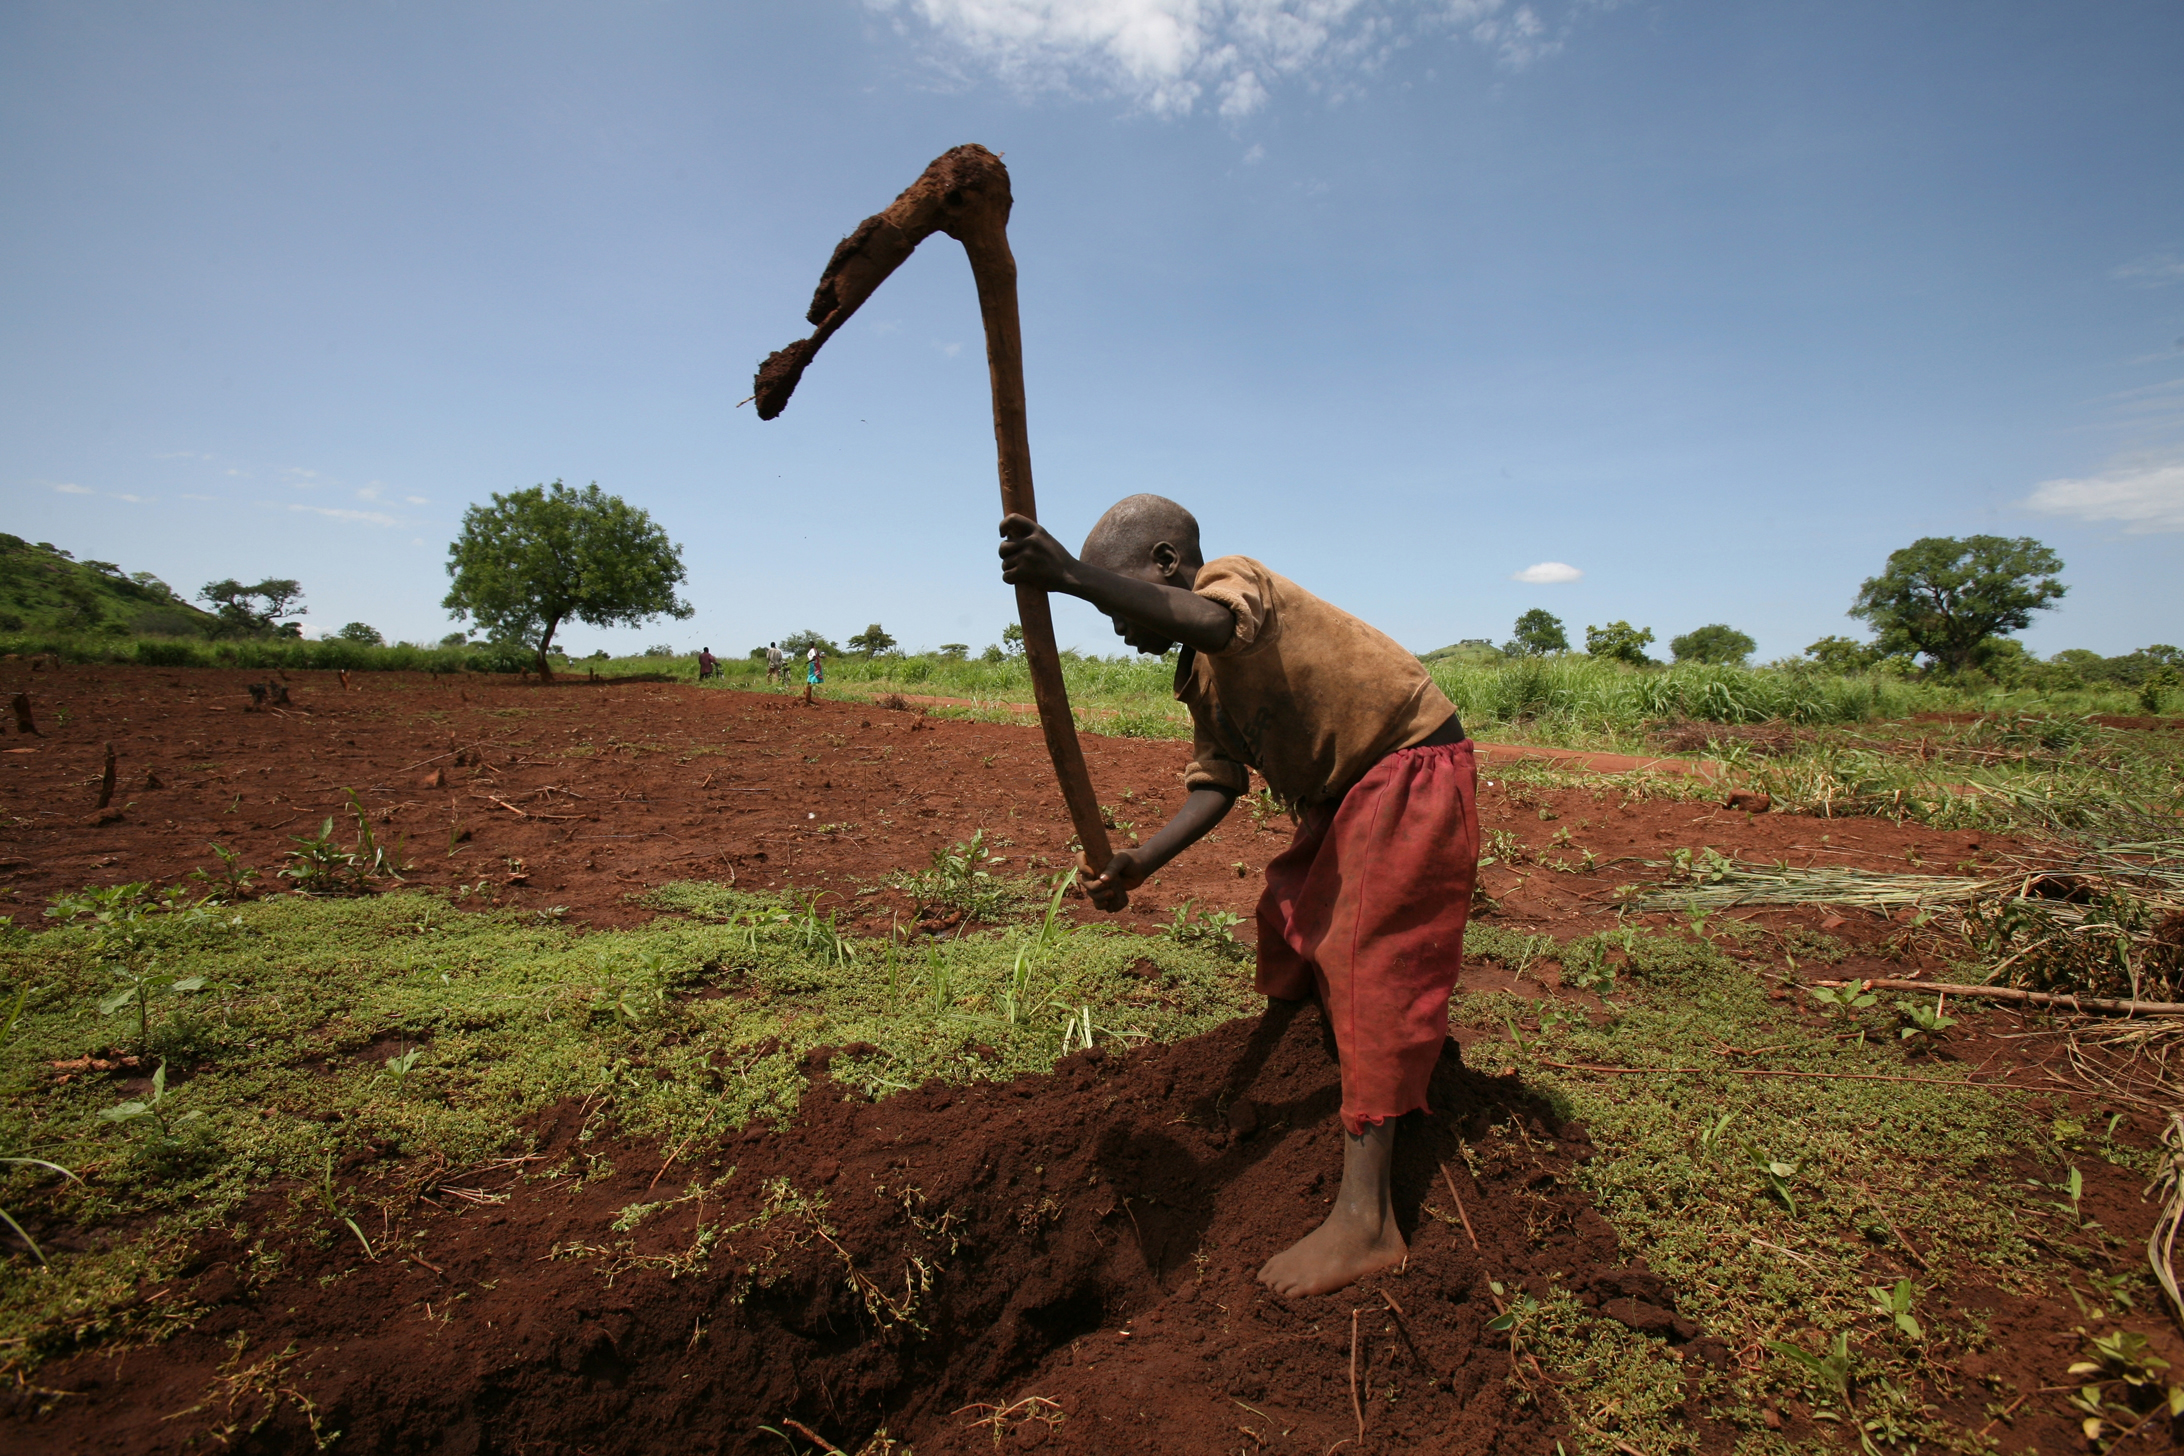human: (922, 433, 1582, 1323)
